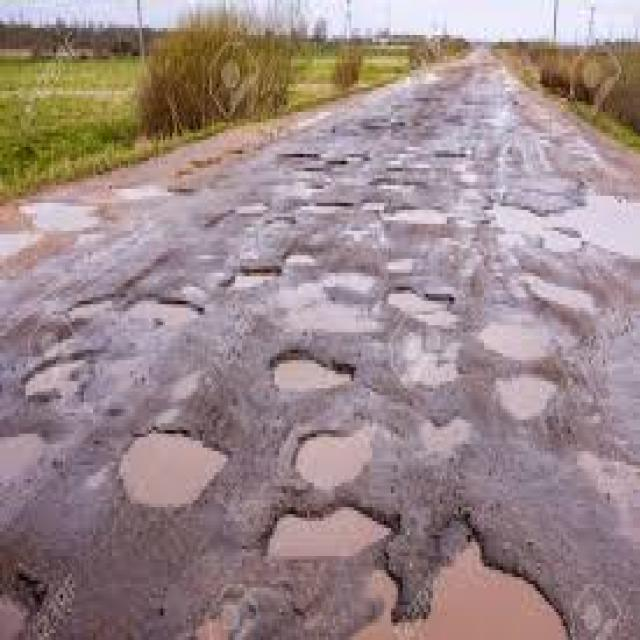Pothole: (356, 549, 568, 640), (119, 434, 228, 507), (268, 511, 389, 560), (296, 430, 370, 490), (23, 343, 93, 395), (268, 350, 354, 392), (496, 374, 554, 420), (479, 325, 540, 367), (391, 276, 456, 301), (228, 266, 279, 294), (151, 297, 200, 325)
